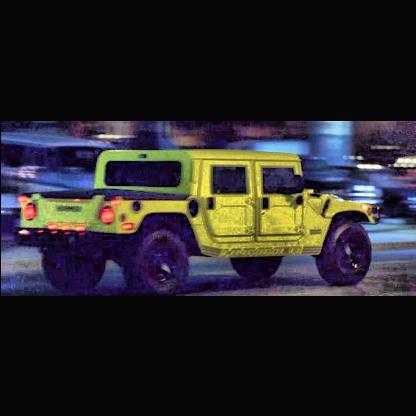AM General Hummer SUV 2000: (17, 149, 383, 295)
